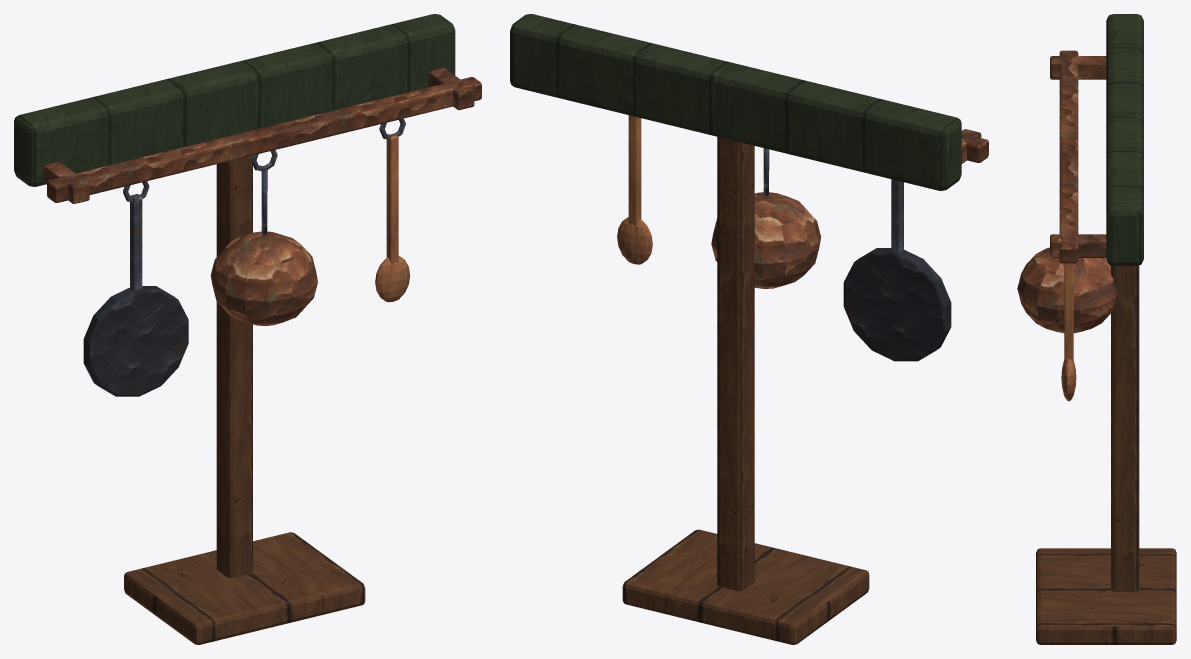
File: hearth_pot_rack.glb
3 renders of one model, left to right at view 1: azimuth 30°, elevation 25°; view 2: azimuth 150°, elevation 25°; view 3: azimuth 270°, elevation 25°, orthographic. The views are drawn at different scales.
Parts seen in each view (by area): view 1: model; view 2: model; view 3: model.
Boxes of the visible parts, left/top/right/bottom form: model: left=14, top=14, right=481, bottom=644; model: left=510, top=14, right=988, bottom=644; model: left=1017, top=14, right=1176, bottom=644.
Bounding box in the file's own units: 1 × 1.17 × 0.34.
Materials: 7 (7 with a texture image).
